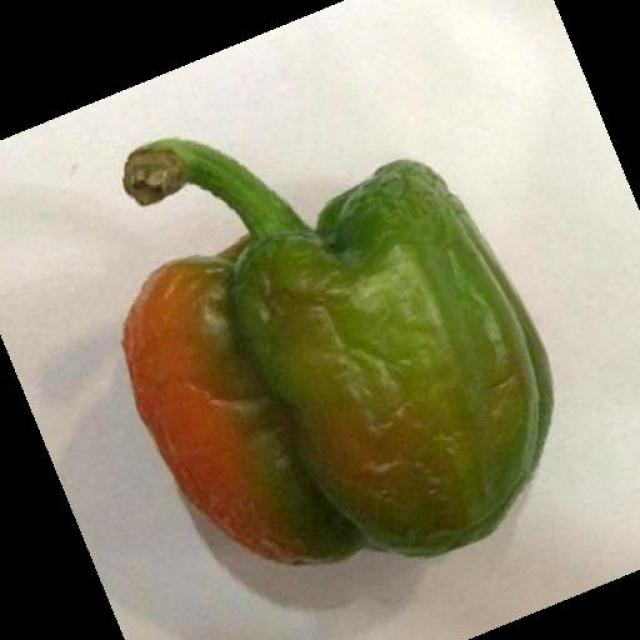Stale_Capsicum: (82, 150, 564, 587)
